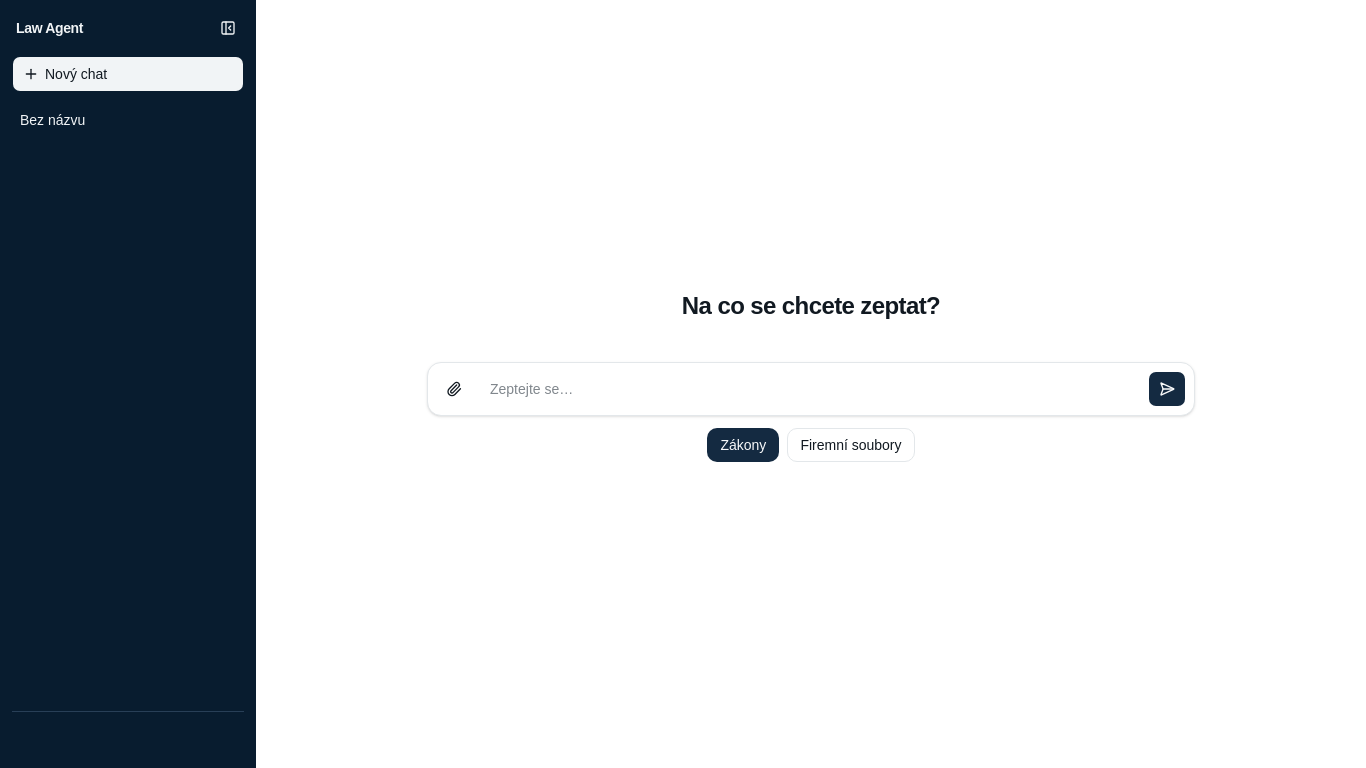
Test case: sending the first message of a new chat › drops the finished thread when the user starts a new chat
Type "Je smlouva platná?" into the text box with placeholder "Zeptejte se…" at coordinates (810, 389), box x1=480 y1=371 x2=1140 y2=407
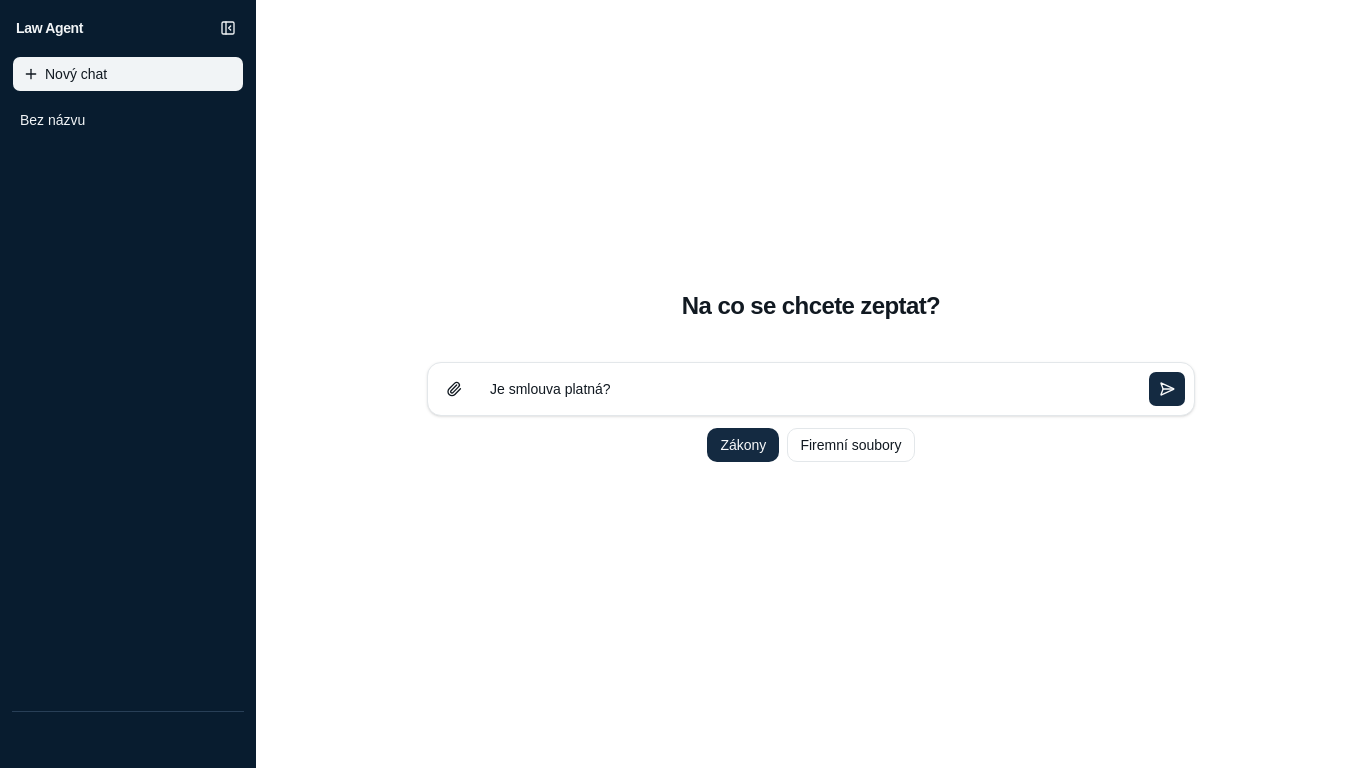
Press Enter
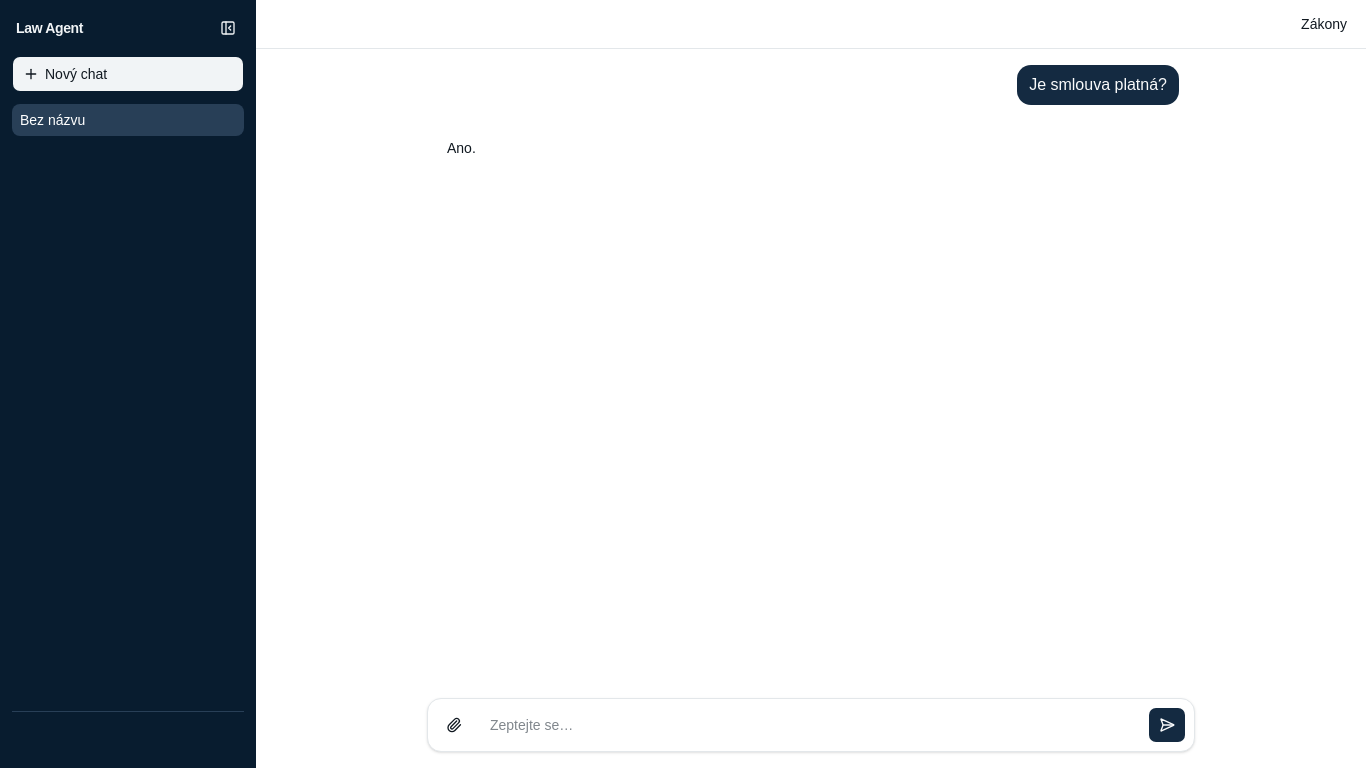
Expected: the text "Ano." is shown, x1=447 y1=140 x2=476 y2=156
Click the link "Nový chat" at coordinates (128, 74), box x1=12 y1=56 x2=244 y2=92
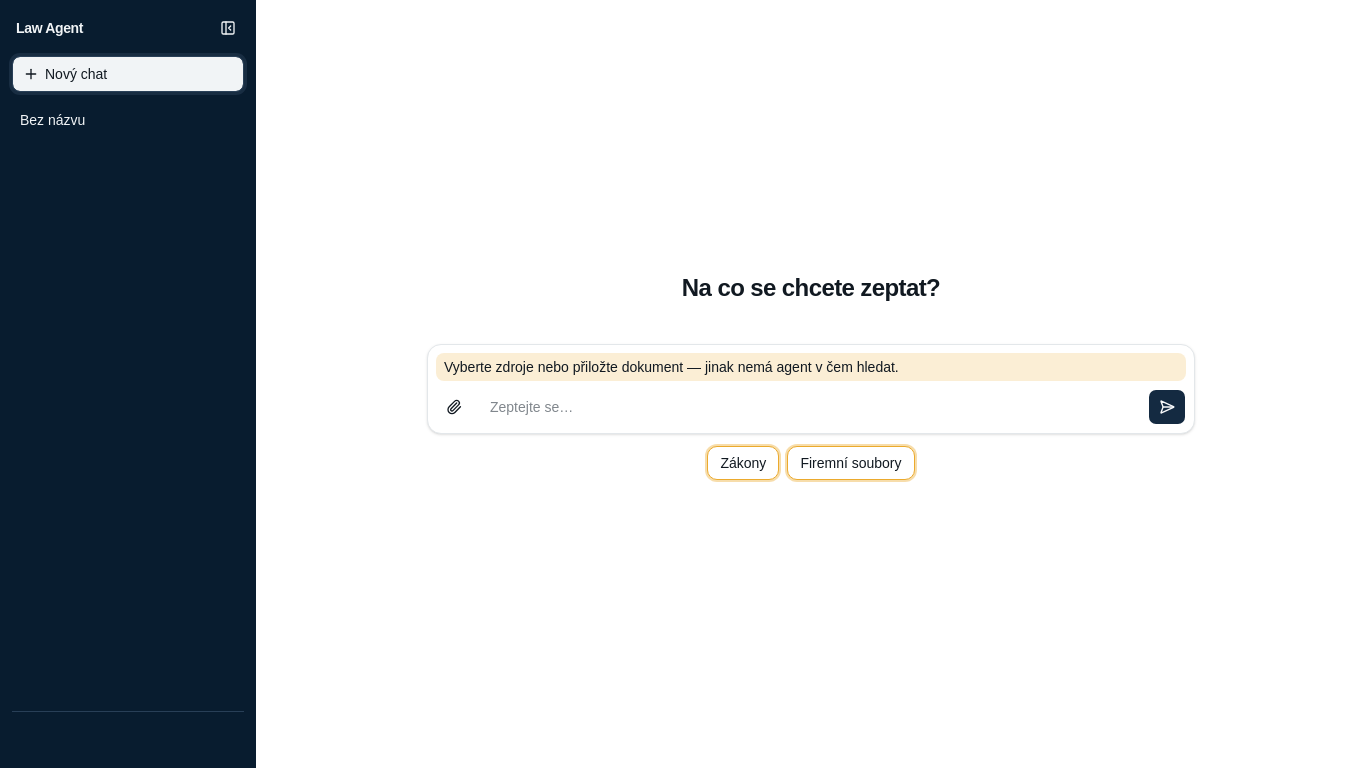
Expected: the heading "Na co se chcete zeptat?" is shown, x1=682 y1=274 x2=940 y2=301
Expected: the text "Je smlouva platná?" is gone
